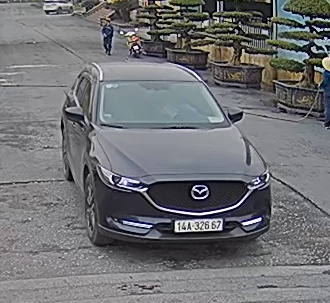vehicle plate: (172, 216, 228, 232)
